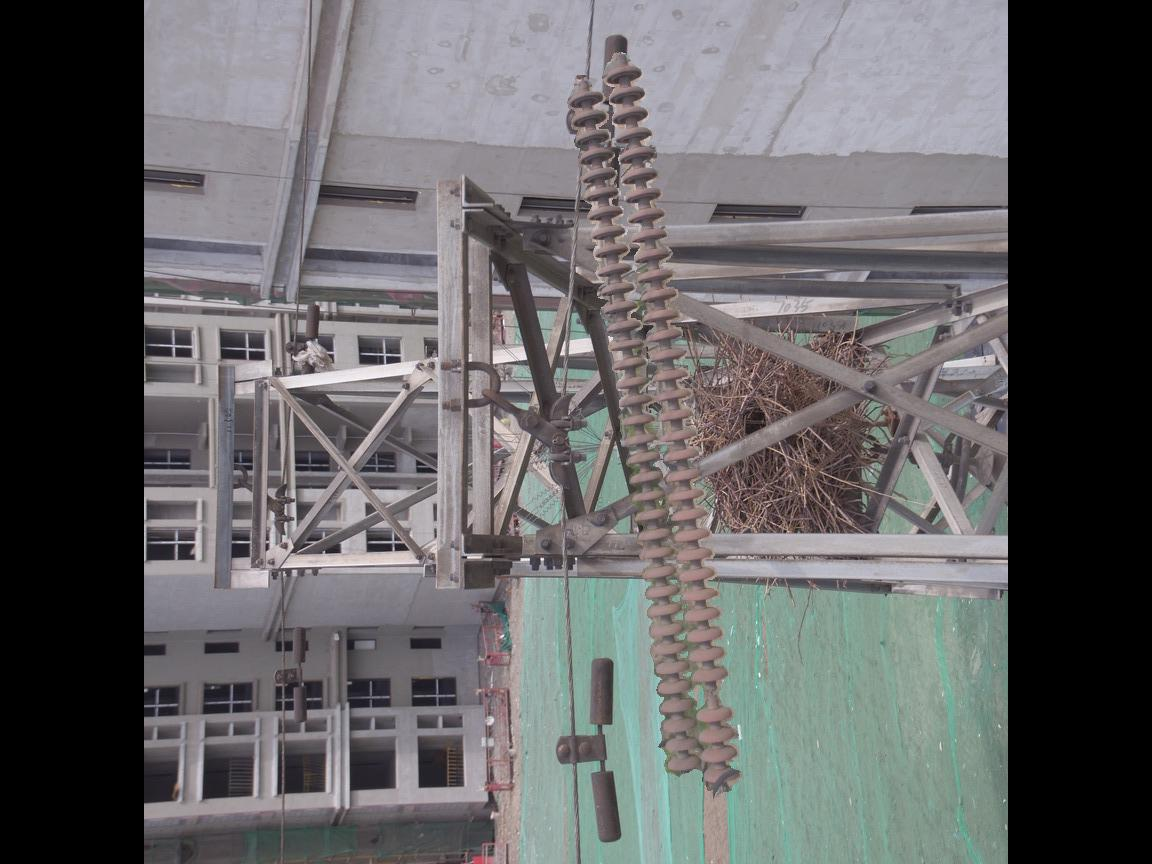insulator: (563, 52, 746, 801)
insulator_stringdrop: (688, 663, 737, 727)
